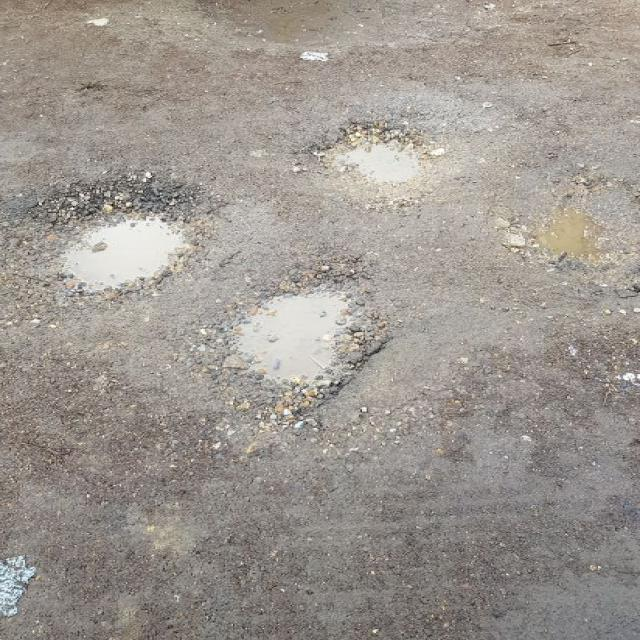Pothole: (5, 163, 234, 301), (204, 264, 395, 416), (314, 115, 448, 203)
